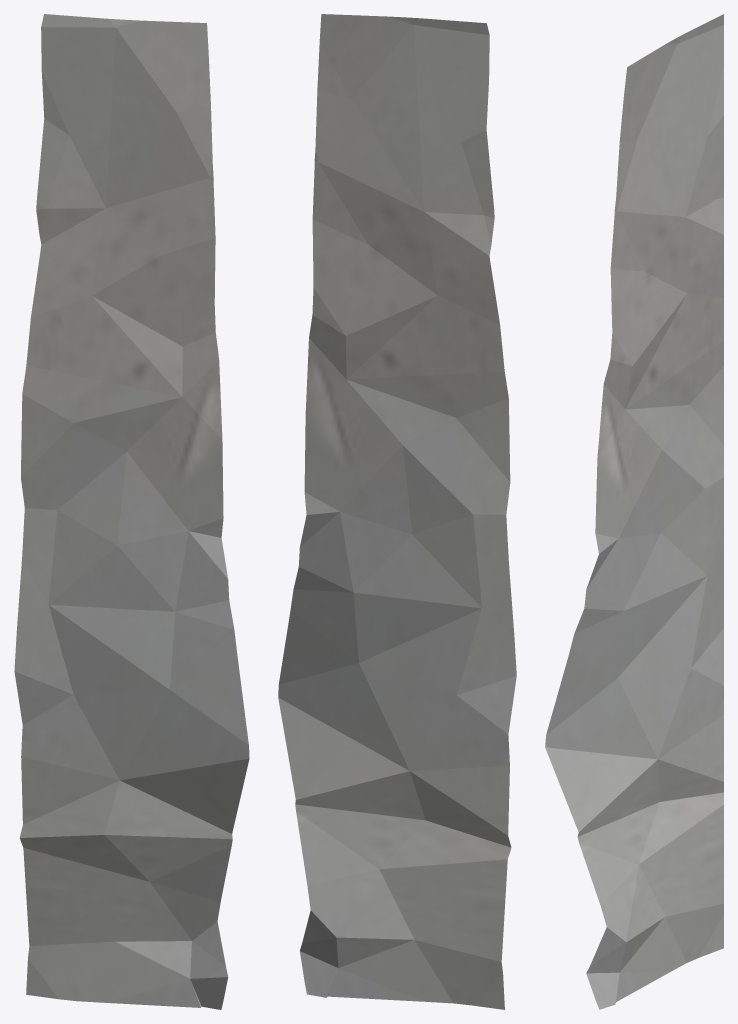
The picture shows the model from 3 angles, left to right: view 1: azimuth 30°, elevation 25°; view 2: azimuth 210°, elevation 25°; view 3: azimuth 270°, elevation 25°; orthographic projection. The views are drawn at different scales.
Bounding box in the file's own units: 0.1279 × 0.8374 × 0.1439.
Materials: 1 (1 with a texture image).
